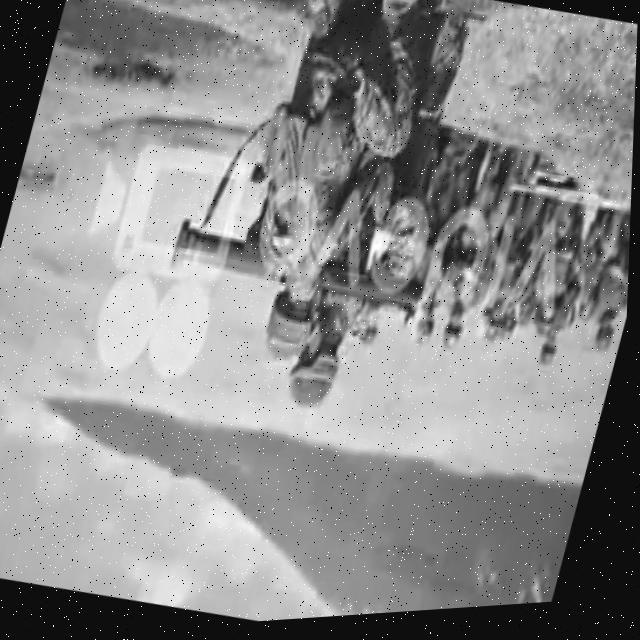rocket: (165, 210, 432, 339)
